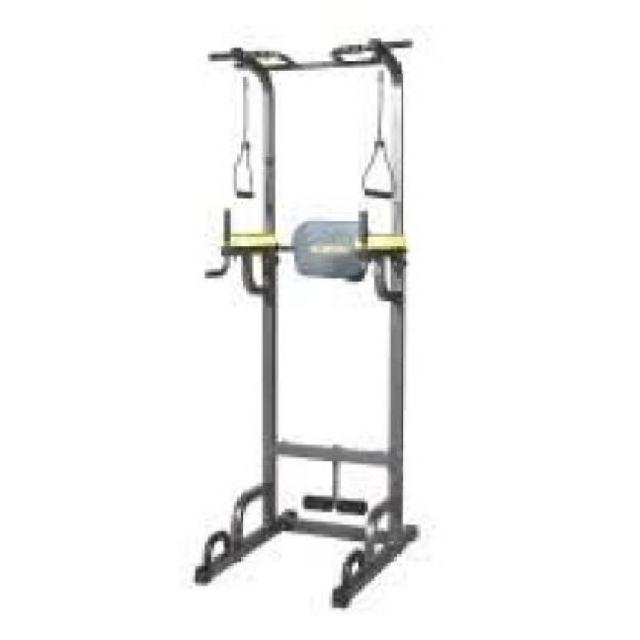chinning dipping: (192, 34, 423, 609)
